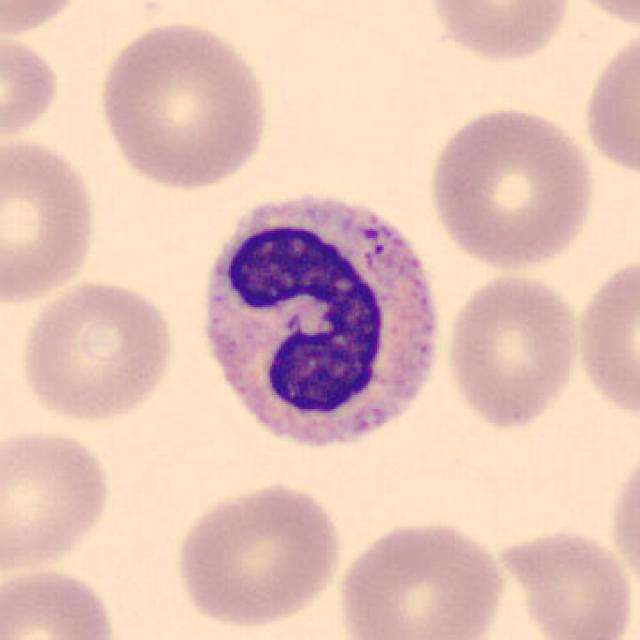Neutrophil: (187, 178, 453, 473)
RBC: (90, 16, 274, 194), (423, 100, 601, 274), (171, 478, 345, 631), (14, 275, 180, 427), (441, 268, 583, 434), (334, 515, 510, 640), (0, 132, 103, 307), (0, 423, 116, 578), (486, 522, 636, 640), (570, 248, 640, 428), (422, 0, 574, 65), (0, 562, 123, 640), (580, 20, 638, 182), (0, 28, 64, 146), (606, 441, 640, 603), (0, 0, 94, 41), (554, 0, 640, 30)
